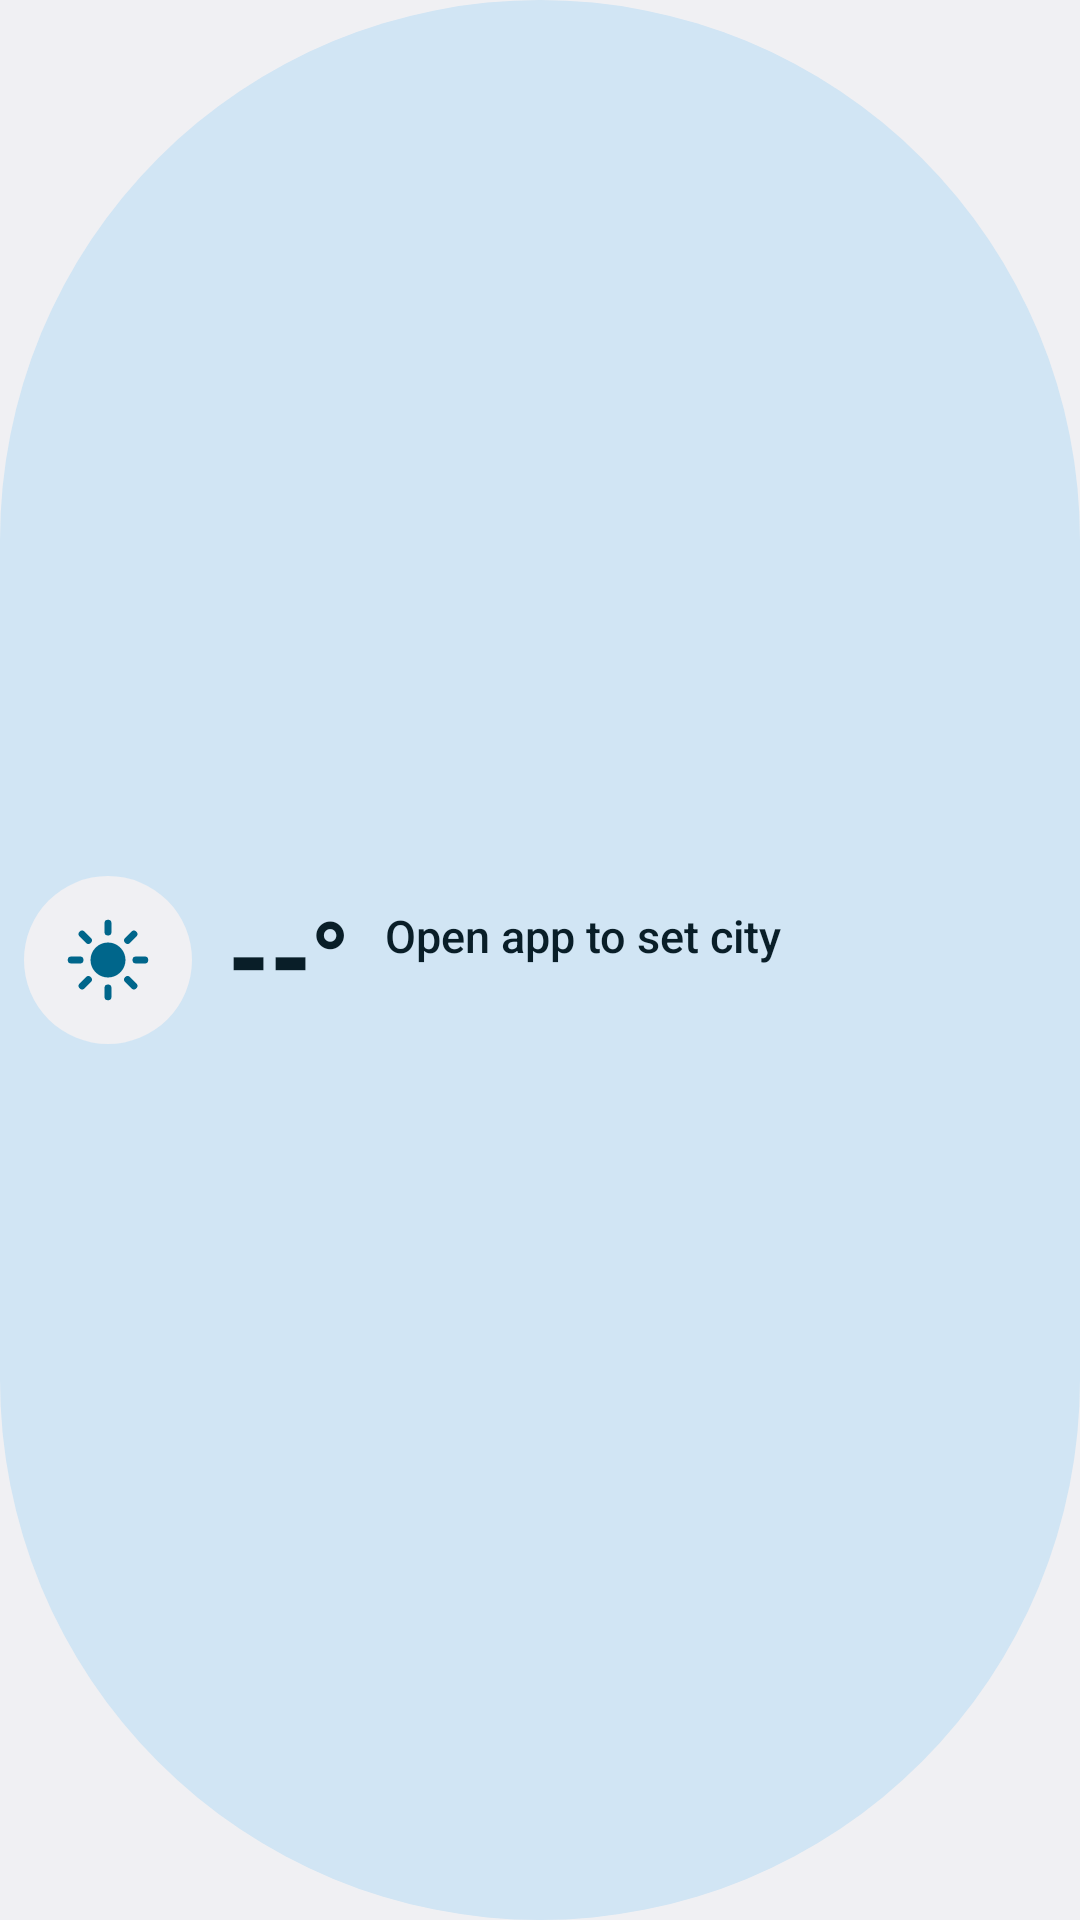

Icon bounding boxes for this 1080px×1920px phone screenshot, format (x1, y1, x2, y2):
sun: (24, 876, 192, 1044)
